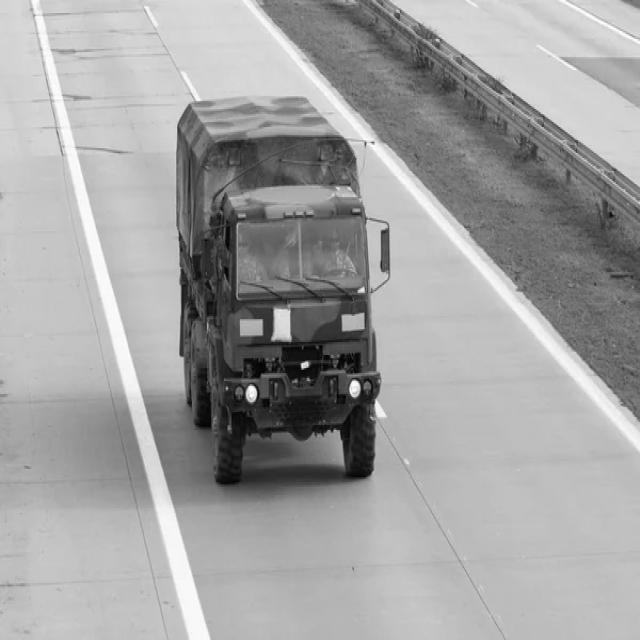Truck: (176, 96, 382, 484)
